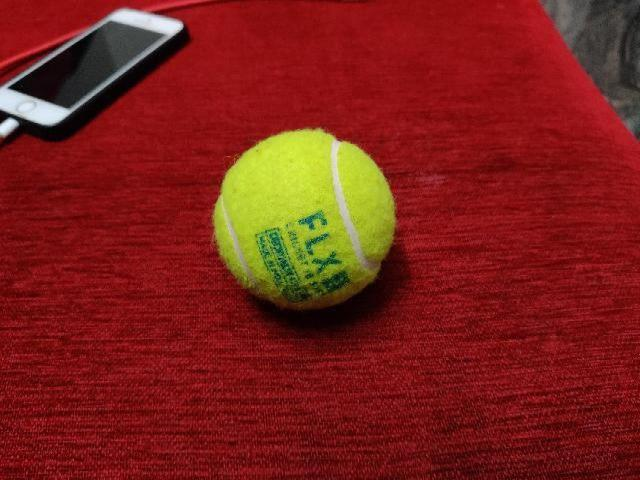tennis-ball: (212, 126, 396, 310)
